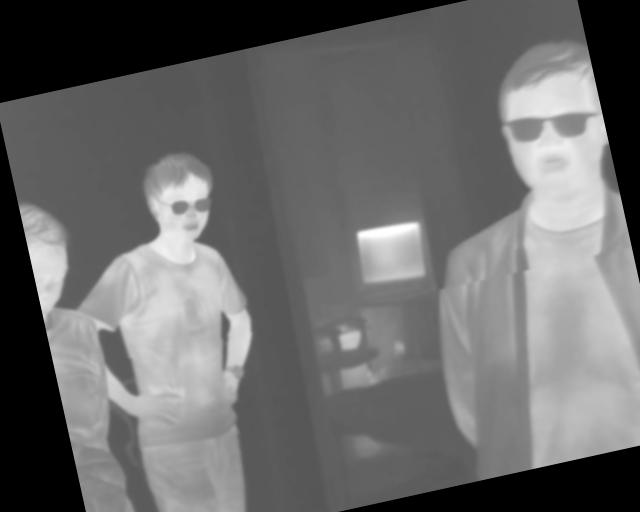face: (482, 32, 617, 205), (135, 144, 225, 250)
